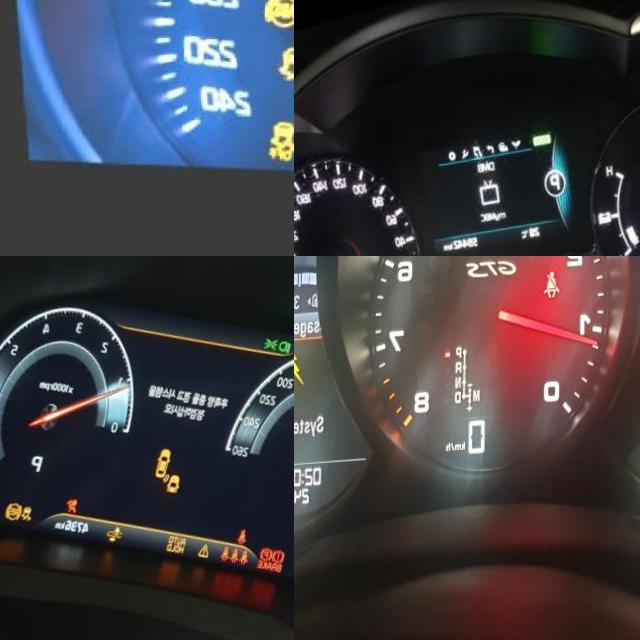Central Warning lamp: (201, 545, 215, 563)
Low beam: (279, 341, 294, 359)
SideLamp: (264, 338, 282, 358)
